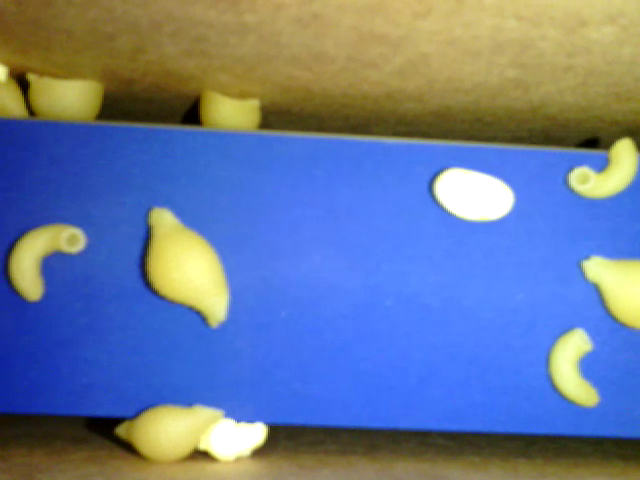elbow: (8, 224, 86, 303), (566, 137, 638, 201), (548, 326, 599, 407)
shell: (144, 206, 231, 329), (114, 403, 228, 462), (580, 254, 639, 329), (27, 70, 106, 120), (199, 89, 260, 130)
